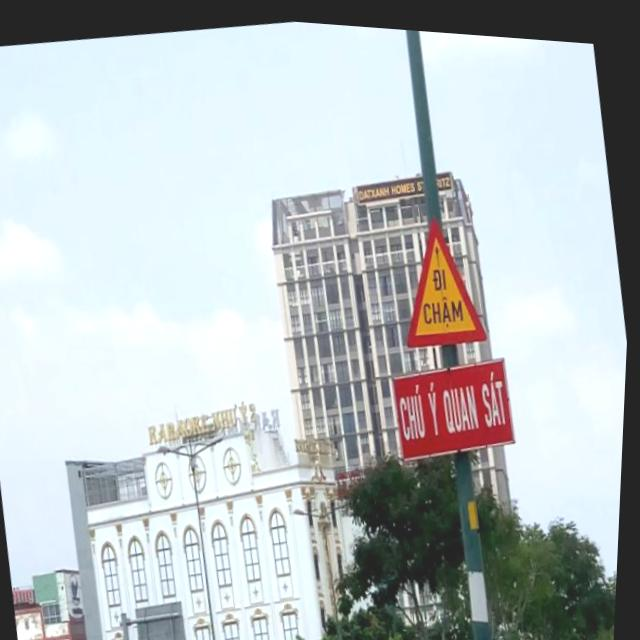Di cham: (383, 196, 508, 366)
